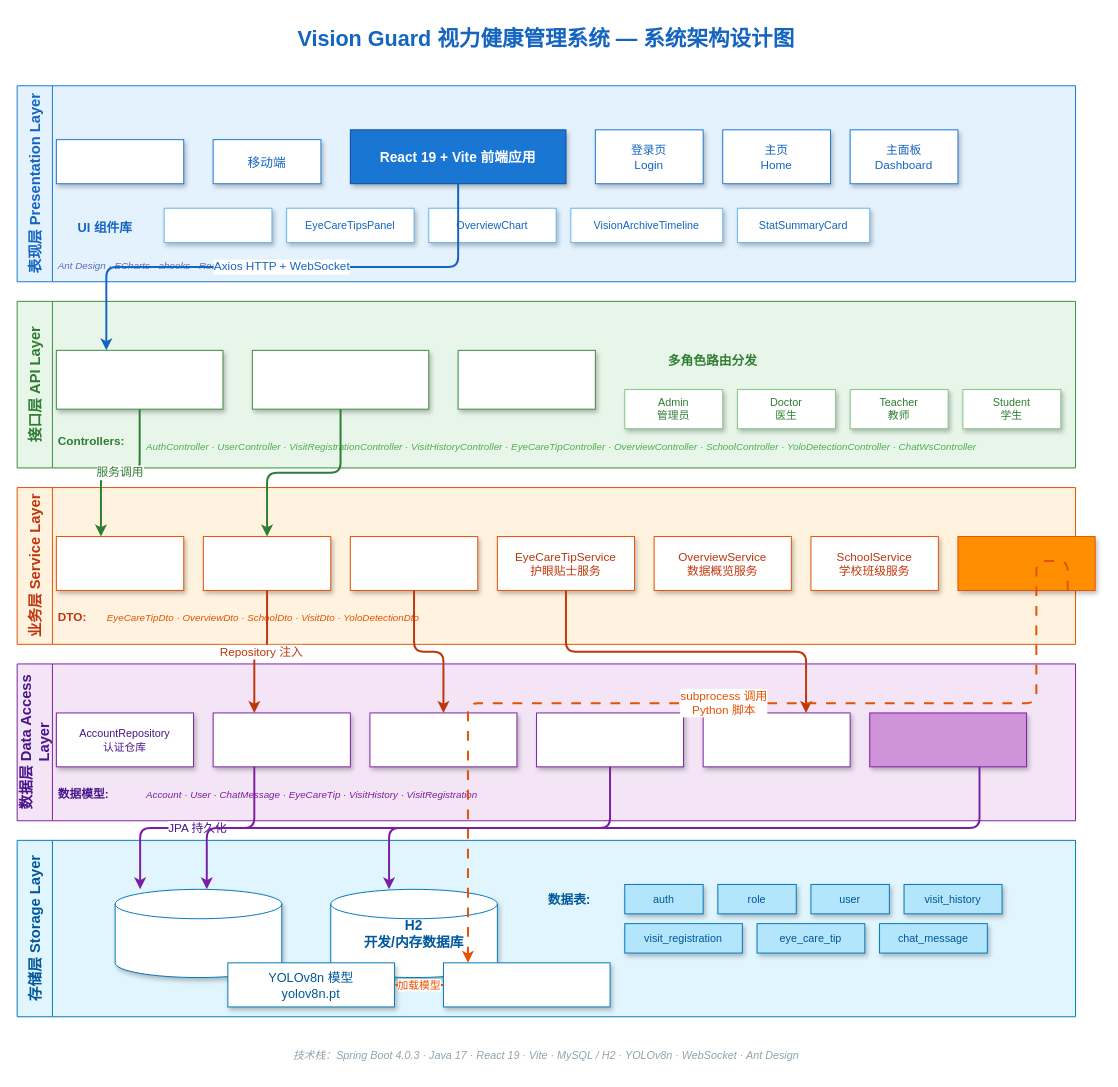
Image size: 1118x1087. Some labels were removed from this diagram. The centre of each missing label's shape, as x and y in pixels:
"AuthService 认证服务" goes at (120,564).
"CORS 跨域配置" goes at (527,380).
"EyeCareTipRepository 护眼贴士仓库" goes at (777,741).
"JPA / Hibernate ORM 数据持久化框架" goes at (948,741).
"MetricCard" goes at (218,226).
"MySQL 生产数据库" goes at (199,934).
"PC 浏览器" goes at (120,163).
"Python 检测脚本 yolo_detect.py" goes at (527,986).
"REST API 网关 Spring Web" goes at (140,380).
"UserRepository 用户仓库" goes at (282,741).
"UserService 用户服务" goes at (267,564).
"VisitHistoryRepository 就诊历史仓库" goes at (444,741).
"VisitRegistrationRepo 就诊登记仓库" goes at (610,741).
"VisitService 就诊服务" goes at (414,564).
"WebSocket 实时通道 Spring WS + Raw WS" goes at (341,380).
"YoloDetectionService AI 检测服务" goes at (1027,564).
